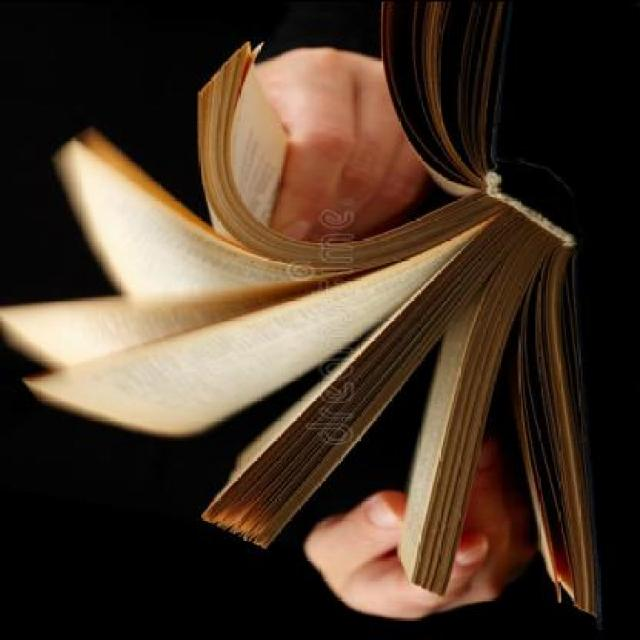book: (0, 0, 592, 620)
